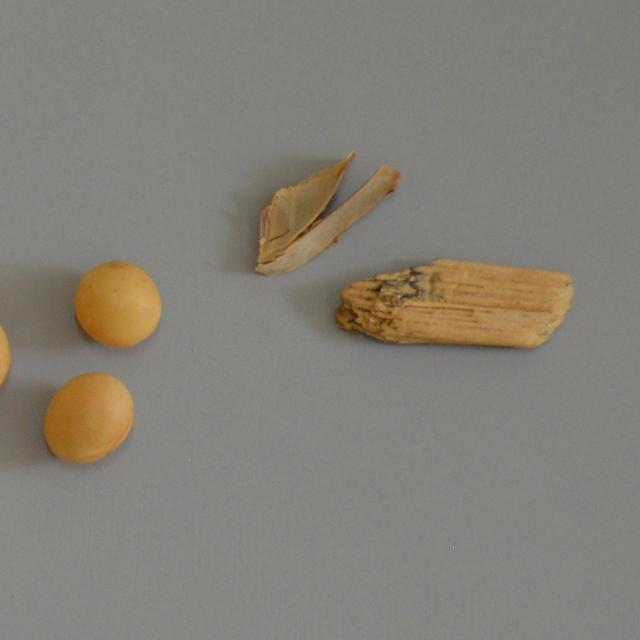cuerpos_extranos: (334, 248, 577, 352), (247, 140, 399, 280), (66, 254, 168, 358), (35, 367, 136, 472), (0, 303, 21, 408)
